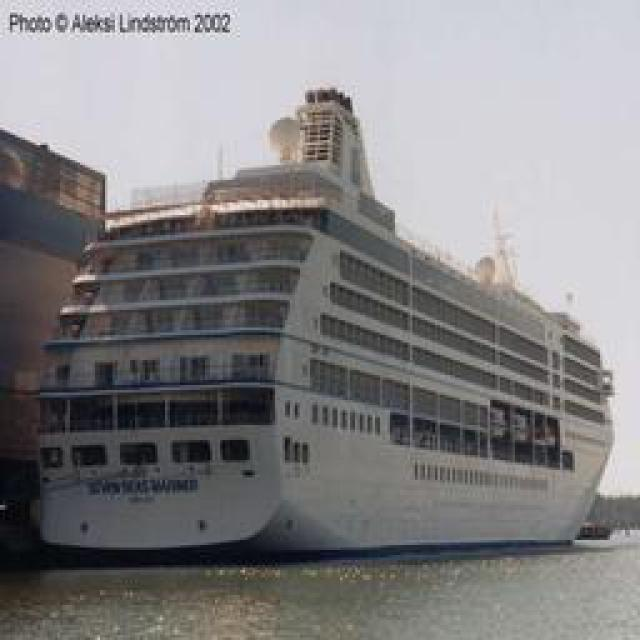Ship: (11, 127, 611, 570)
